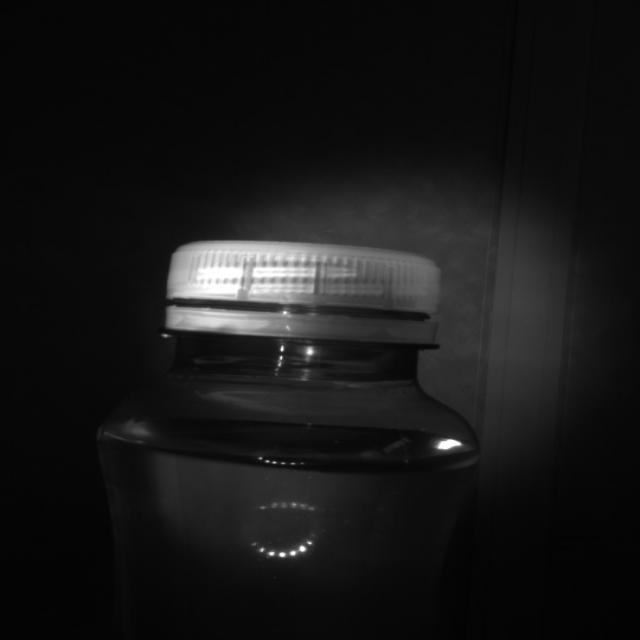Not Good: (166, 240, 439, 347)
